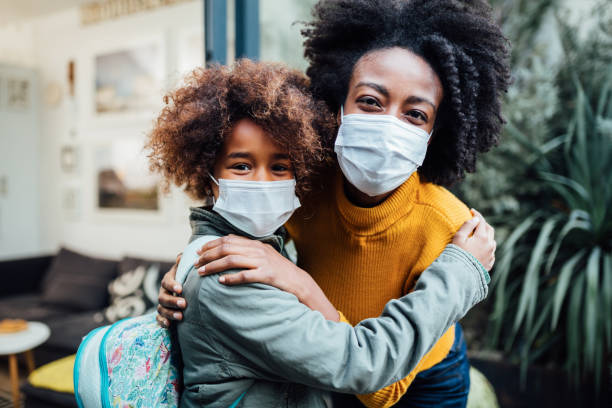with mask: (332, 41, 446, 203), (199, 120, 304, 238)
